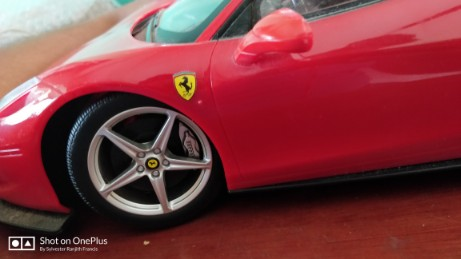unaligned_wheel: (48, 95, 238, 228)
